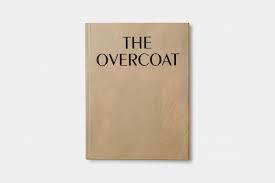Paper: (70, 13, 212, 169)
